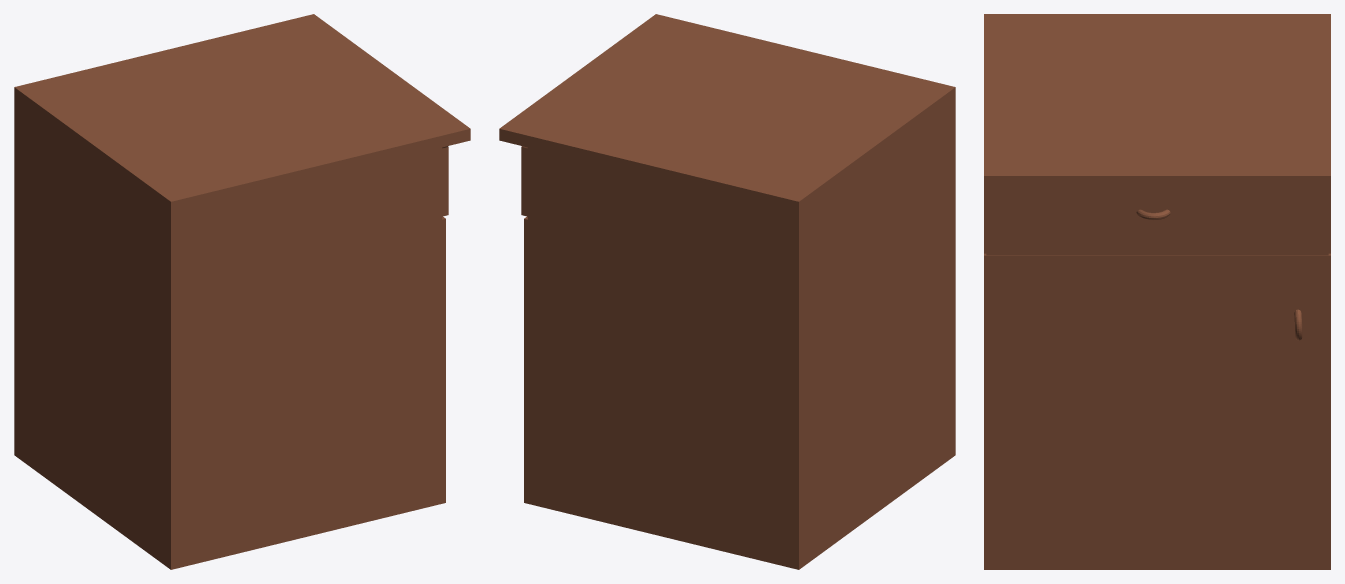
Rendered from nightshelf v2.fbx.
3 views of the same model, side by side, from view 1: azimuth 30°, elevation 25°; view 2: azimuth 150°, elevation 25°; view 3: azimuth 270°, elevation 25° (orthographic). The views are drawn at different scales.
Parts seen in each view (by area): view 1: Stand, Drawer2; view 2: Stand, Drawer2; view 3: Drawer2, Stand, Drawer.
Part boxes in pixels (x1=…): Stand: x1=14, y1=14, x2=470, y2=569; Drawer2: x1=442, y1=216, x2=445, y2=503; Stand: x1=499, y1=14, x2=955, y2=569; Drawer2: x1=524, y1=216, x2=527, y2=503; Drawer2: x1=984, y1=253, x2=1330, y2=569; Stand: x1=984, y1=14, x2=1330, y2=253; Drawer: x1=986, y1=189, x2=1328, y2=255.
Size of the model in its own units: 221 by 259 by 200.
